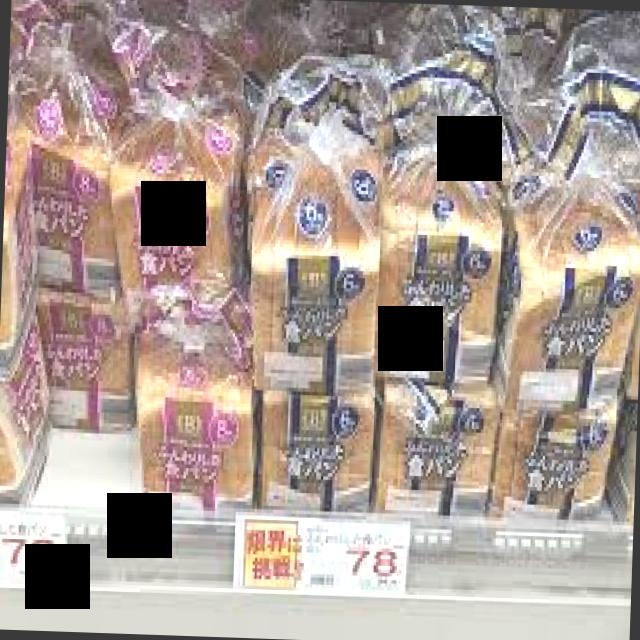bread: (489, 69, 640, 409), (246, 55, 395, 397), (371, 50, 514, 389), (109, 25, 249, 330), (10, 0, 120, 301), (133, 279, 254, 514), (370, 376, 503, 519), (261, 390, 381, 516), (492, 399, 614, 519), (35, 287, 133, 434)
